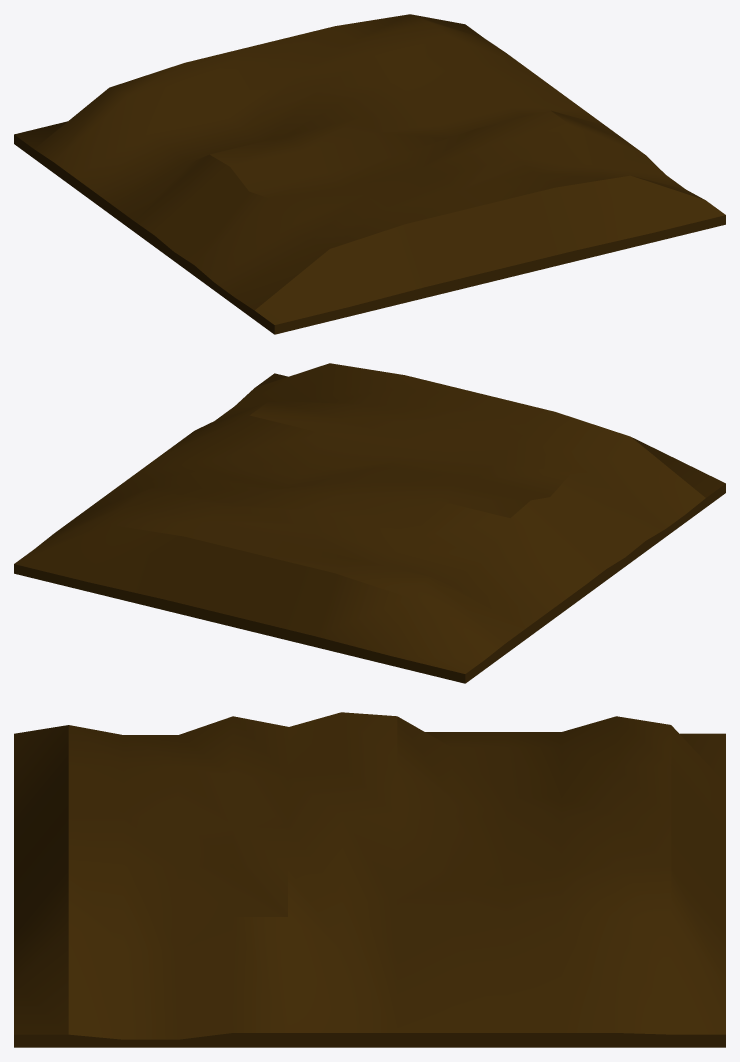
Rendered from WetSoil2.fbx.
The picture shows the model from 3 angles, top to bottom: view 1: azimuth 30°, elevation 25°; view 2: azimuth 150°, elevation 25°; view 3: azimuth 270°, elevation 25°; orthographic projection. The views are drawn at different scales.
Visible parts, largest first — view 1: Cube.014; view 2: Cube.014; view 3: Cube.014.
Boxes of the visible parts, box(x1,y1,x2,y2) form: Cube.014: box(14, 14, 725, 334); Cube.014: box(14, 363, 725, 683); Cube.014: box(14, 712, 725, 1047).
Bounding box in the file's own units: 44.94 × 5.9 × 44.94.
